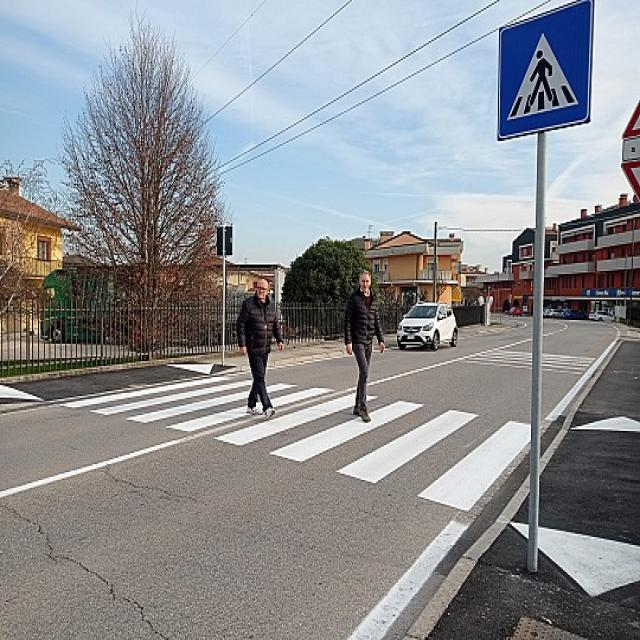Pedestrian crosswalk: (500, 24, 589, 127)
Person: (344, 268, 387, 427), (237, 278, 284, 419)
